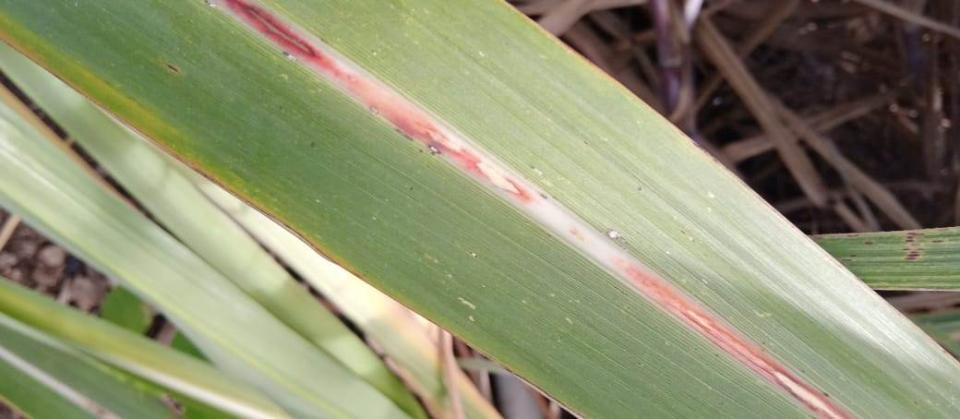RedRot: (221, 0, 534, 204), (608, 254, 855, 418)
